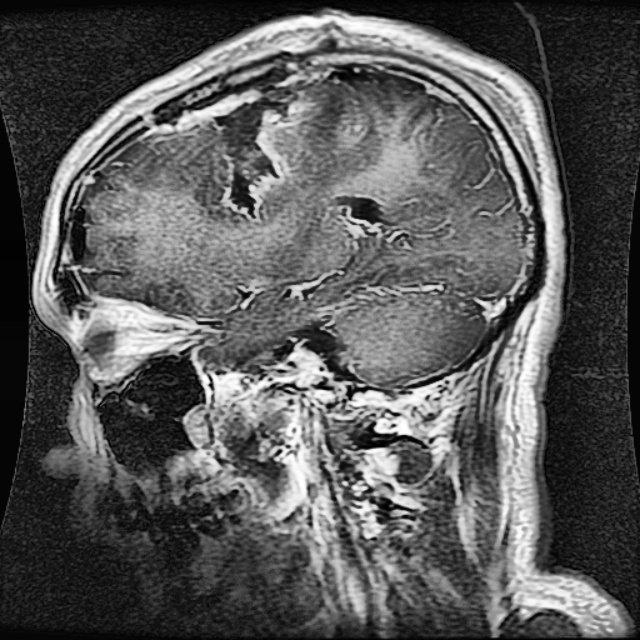Meningioma: (212, 87, 300, 217)
